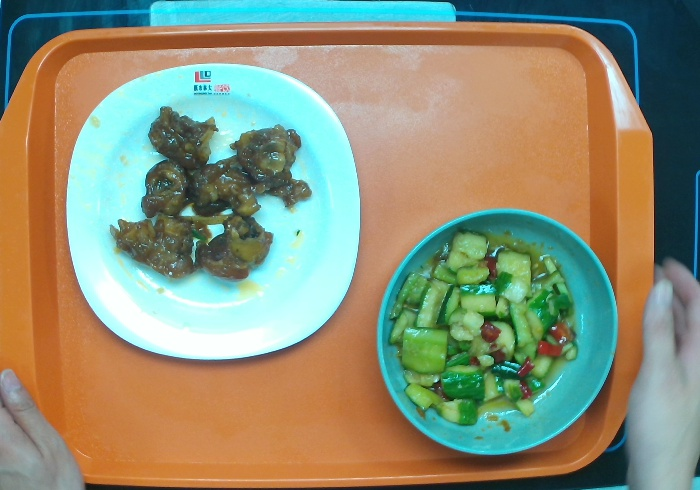ZNLD-Qing_Hua_Yuan_Wan: (373, 206, 620, 456)
ZNLD-Yuan_Jiao_Pan: (64, 61, 362, 362)
